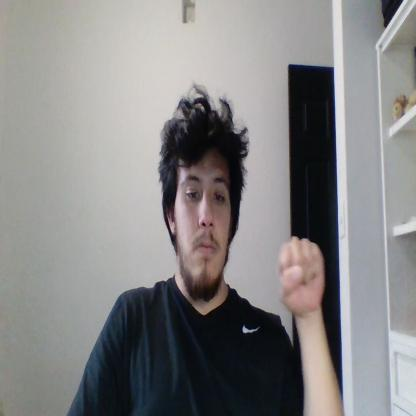S: (278, 237, 324, 314)
